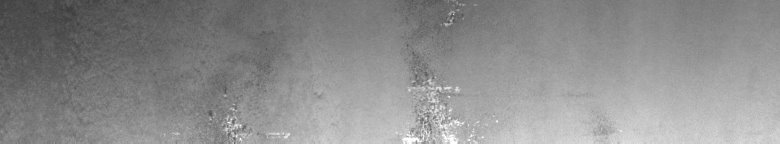hc: (401, 4, 498, 136)
